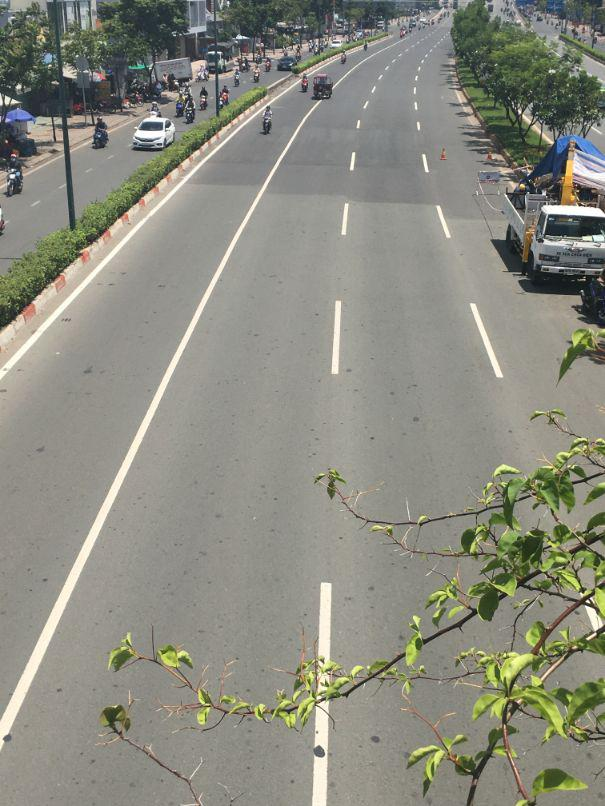car: (132, 115, 176, 151), (311, 75, 334, 100)
motorbike: (8, 159, 25, 193), (92, 119, 109, 147), (184, 102, 195, 125)
truck: (528, 205, 604, 287), (154, 57, 195, 89)
